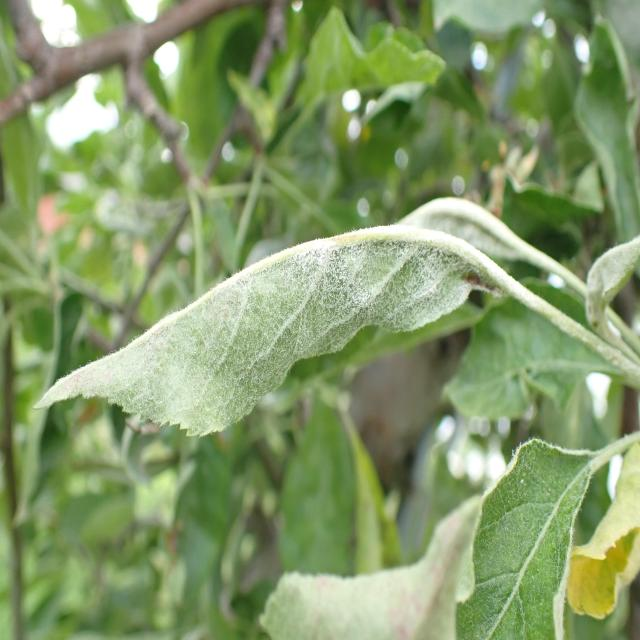Powdery_mildew: (37, 199, 547, 464), (252, 484, 478, 640), (579, 219, 640, 383)
